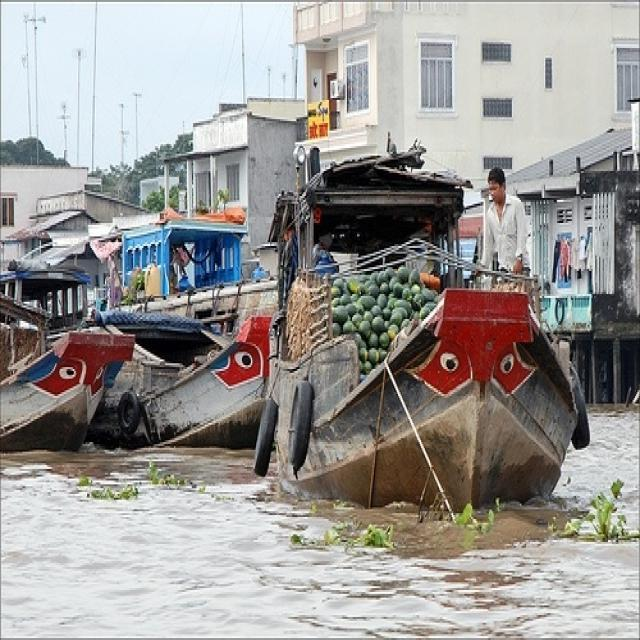Hyacinth: (560, 478, 632, 562), (305, 518, 394, 559), (144, 457, 196, 502), (435, 509, 495, 540), (92, 469, 132, 511)
boat: (277, 256, 592, 514)
